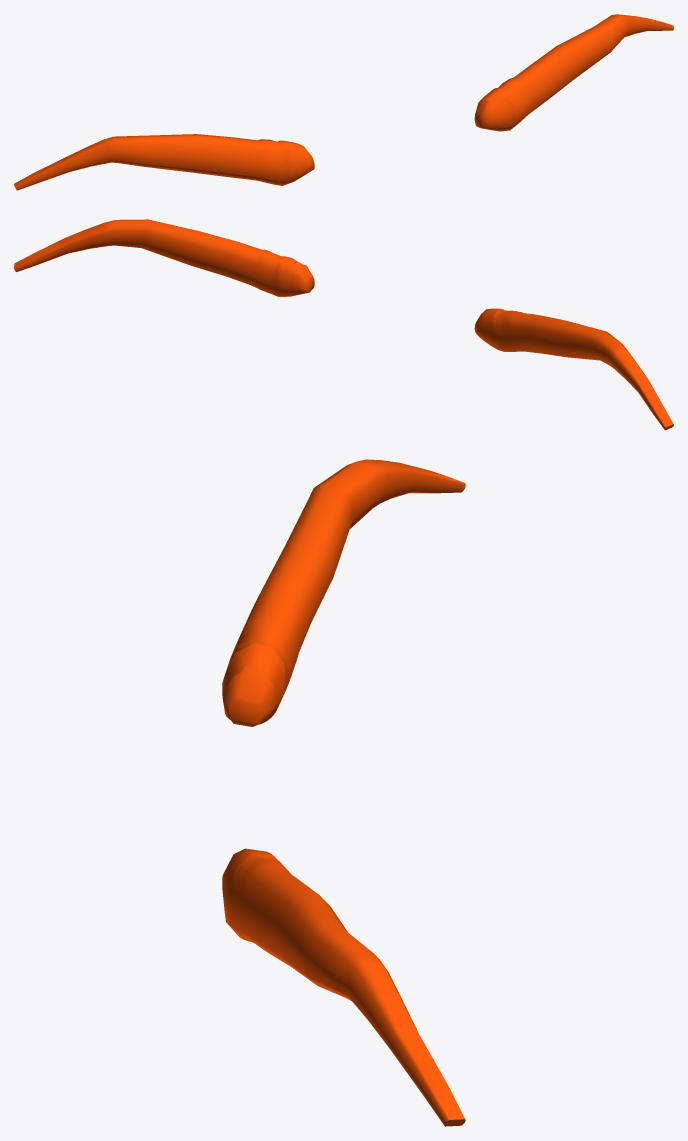
Rendered from Eyebrows_10_06.fbx.
The picture shows the model from 3 angles, top to bottom: view 1: azimuth 30°, elevation 25°; view 2: azimuth 150°, elevation 25°; view 3: azimuth 270°, elevation 25°; orthographic projection. The views are drawn at different scales.
Visible parts, largest first — view 1: Eyebrows_10_06; view 2: Eyebrows_10_06; view 3: Eyebrows_10_06.
Part boxes in pixels (x1,y1,x2,y2): Eyebrows_10_06: (14, 14, 673, 190); Eyebrows_10_06: (14, 219, 673, 430); Eyebrows_10_06: (222, 459, 465, 1126).
Bounding box in the file's own units: 19.53 × 1.75 × 3.13.
